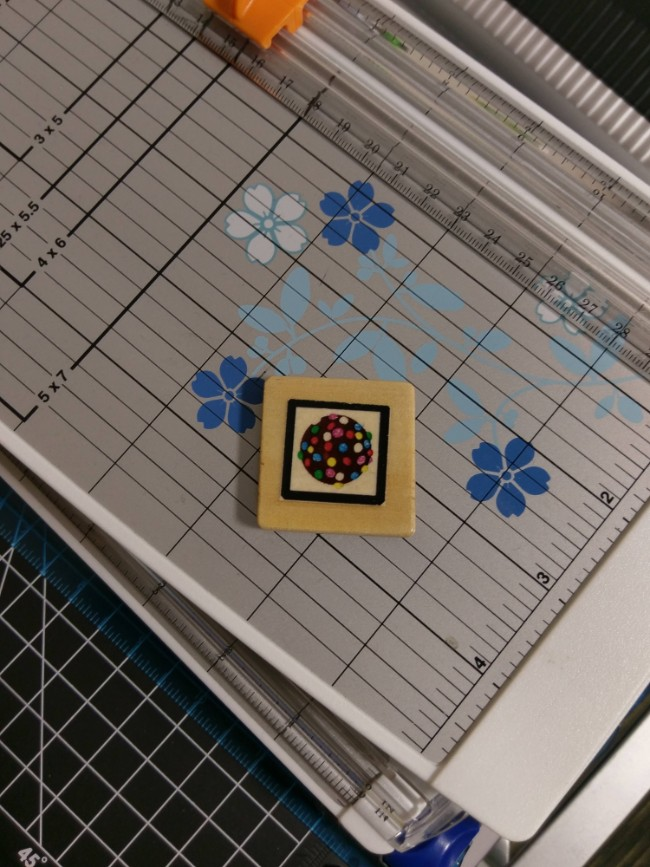cookie: (269, 386, 403, 521)
